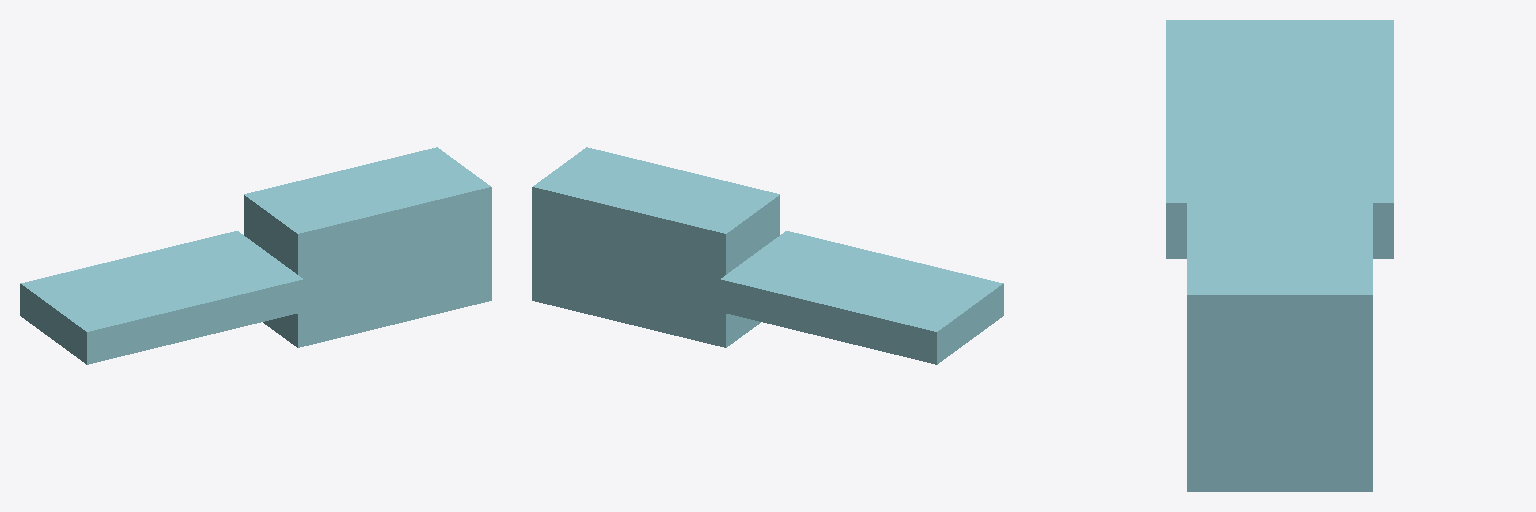
robot.urdf — cuboid_brush_v8011:
<?xml version="1.0"?>
<robot name="cuboid_brush_v8011">

  <link name="cuboid_brush_v8011">
    <!-- Handle -->
    <visual>
      <origin xyz="0 0 0" rpy="0 0 0"/>
      <geometry>
        <box size="0.07073080574577961 0.037564695805920485 0.010185195636422468"/>
      </geometry>
      <material name="material">
        <color rgba="0.639 0.847 0.882 1.0"/>
      </material>
    </visual>
    <collision>
      <origin xyz="0 0 0" rpy="0 0 0"/>
      <geometry>
        <box size="0.07073080574577961 0.037564695805920485 0.010185195636422468"/>
      </geometry>
    </collision>

    <!-- Head -->
    <visual>
      <origin xyz="0.06695667199128712 0 0" rpy="0 0 0"/>
      <geometry>
        <box size="0.06318253823679462 0.03062567025803289 0.03553147337811016"/>
      </geometry>
      <material name="material">
        <color rgba="0.639 0.847 0.882 1.0"/>
      </material>
    </visual>
    <collision>
      <origin xyz="0.06695667199128712 0 0" rpy="0 0 0"/>
      <geometry>
        <box size="0.06318253823679462 0.03062567025803289 0.03553147337811016"/>
      </geometry>
    </collision>

    <inertial>
      <density value="400.0"/>
    </inertial>
  </link>

</robot>

--- Facts derived from the render (not from the file) ---
Views: 3 orthographic renders of the robot side by side, from view 1: azimuth 30°, elevation 25°; view 2: azimuth 150°, elevation 25°; view 3: azimuth 270°, elevation 25°.
Robot: cuboid_brush_v8011 — 1 links, 0 joints (none); root link cuboid_brush_v8011; default pose: every joint at zero.
Visible links, largest first — view 1: cuboid_brush_v8011; view 2: cuboid_brush_v8011; view 3: cuboid_brush_v8011.
Link boxes in pixels (box(x1,y1,x2,y2)): cuboid_brush_v8011: box(20, 147, 491, 364); cuboid_brush_v8011: box(532, 147, 1003, 364); cuboid_brush_v8011: box(1166, 20, 1393, 491).
Size in the robot's own frame: 0.1339 by 0.0376 by 0.0355 metres.
Geometry: primitives only (box / cylinder / sphere), no mesh files.
